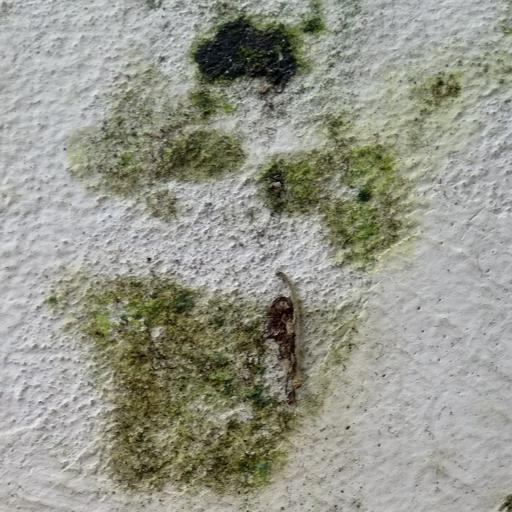algae: (53, 10, 454, 506)
